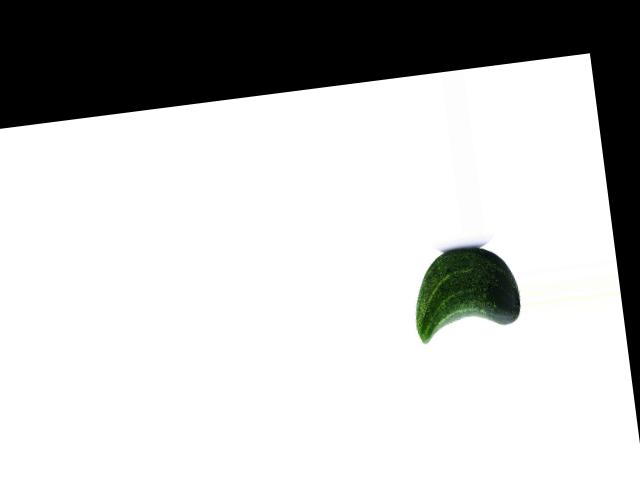cucumber: (406, 242, 523, 344)
